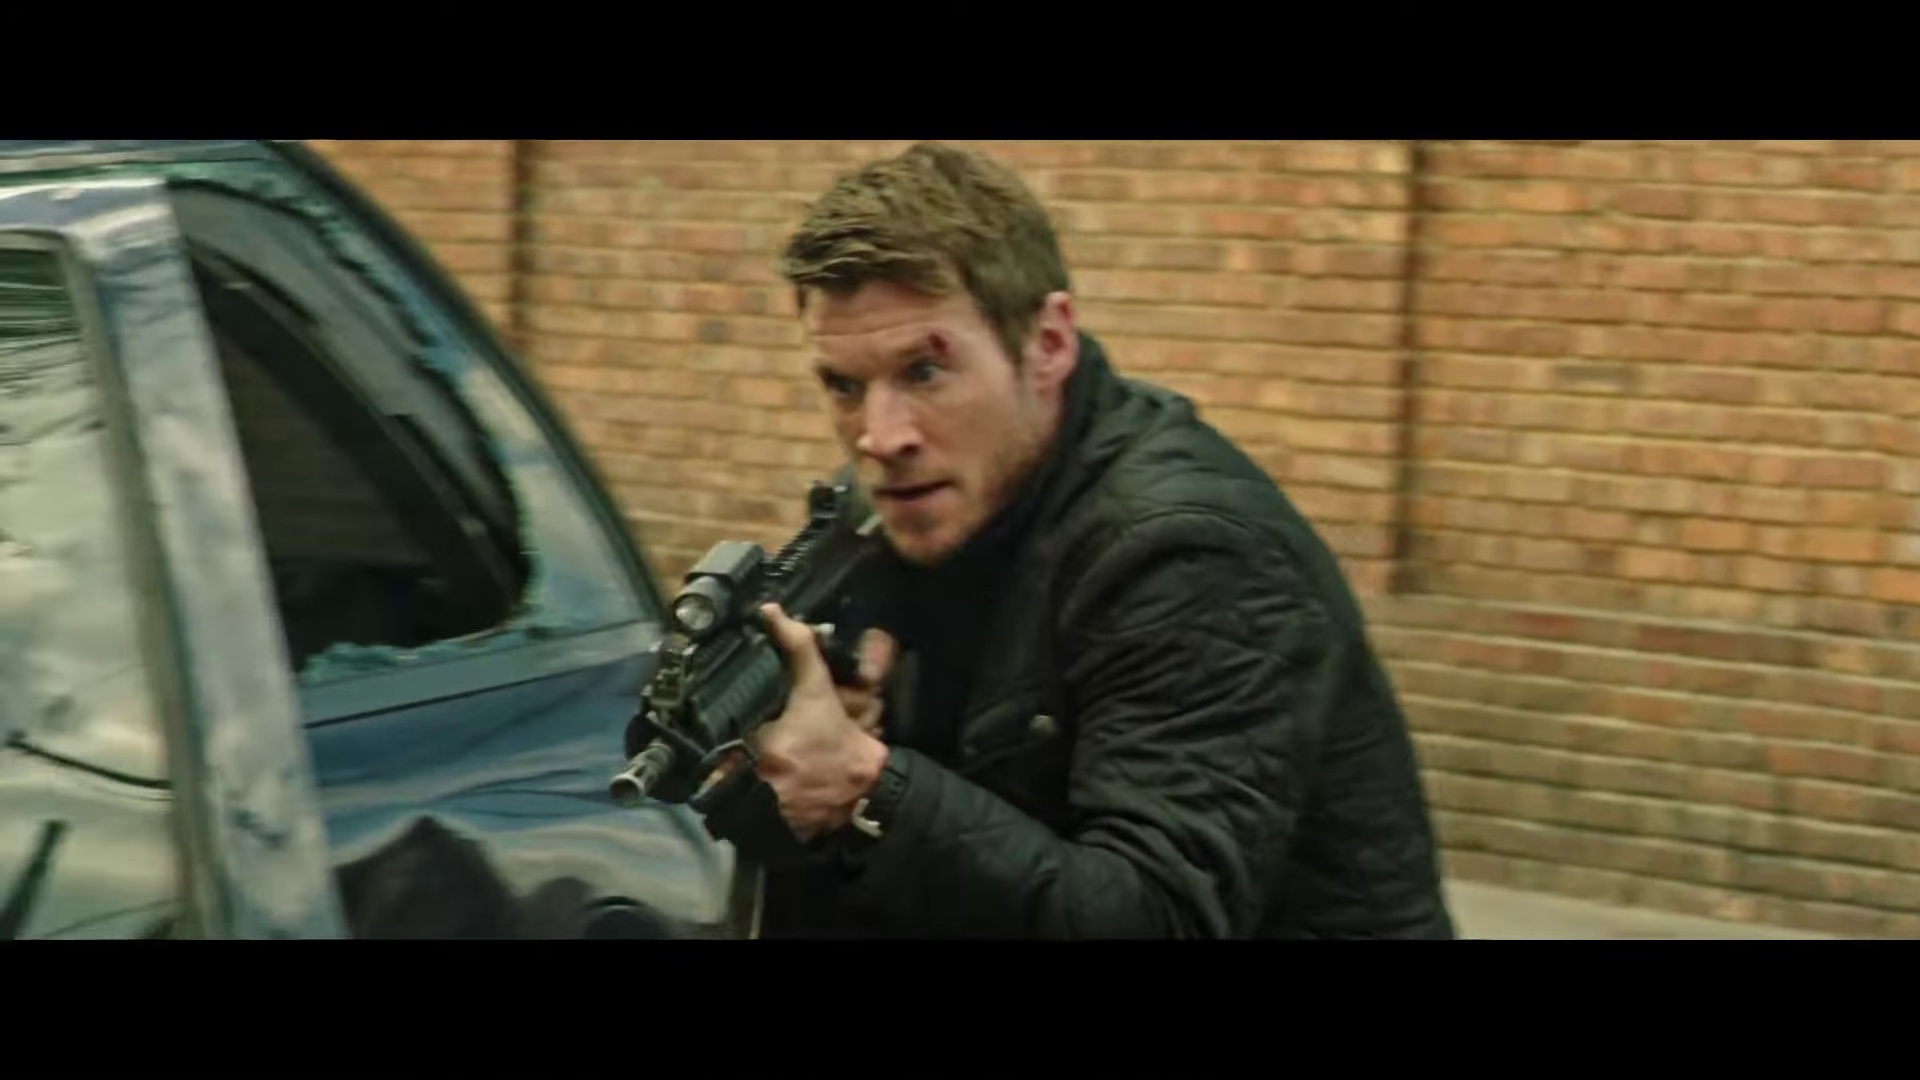gun: (607, 465, 926, 828)
p_w_gun: (613, 128, 1445, 947)
